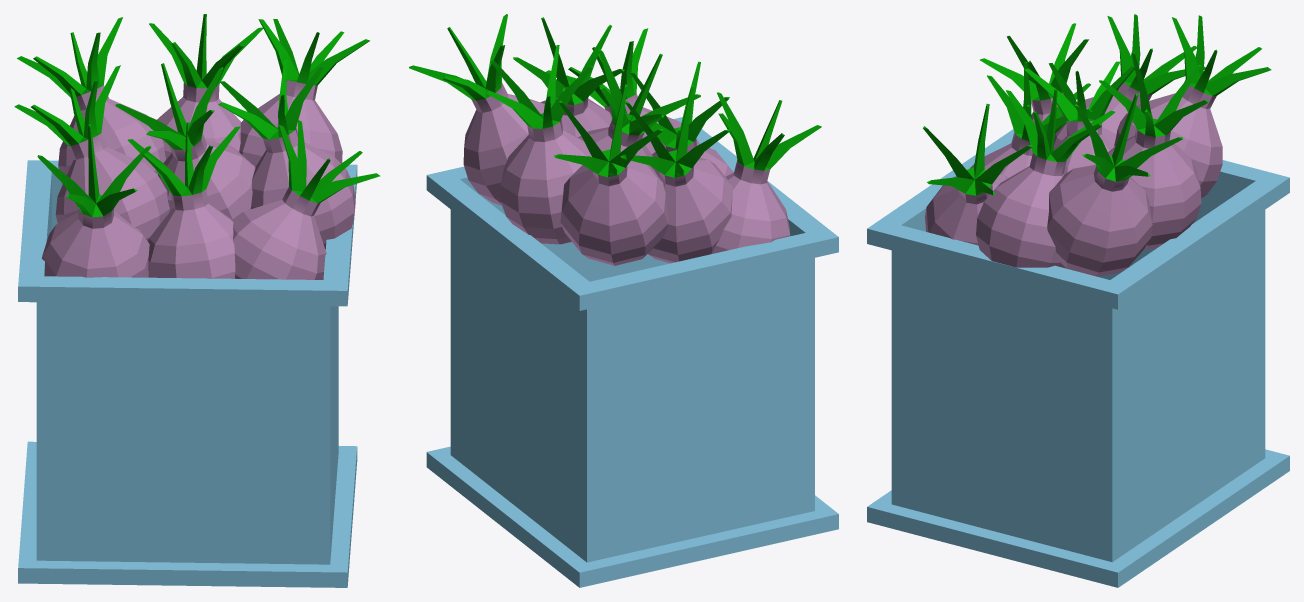
Rendered from ColeccionCebollas.fbx.
The picture shows the model from 3 angles, left to right: view 1: azimuth 30°, elevation 25°; view 2: azimuth 150°, elevation 25°; view 3: azimuth 270°, elevation 25°; orthographic projection.
Parts seen in each view (by area): view 1: pSphere22; view 2: pSphere22; view 3: pSphere22.
Boxes of the visible parts, left/top/right/bottom form: pSphere22: left=14, top=14, right=380, bottom=587; pSphere22: left=409, top=14, right=838, bottom=587; pSphere22: left=867, top=14, right=1289, bottom=587.
Size of the model in its own units: 9.22 by 10.74 by 8.96.
